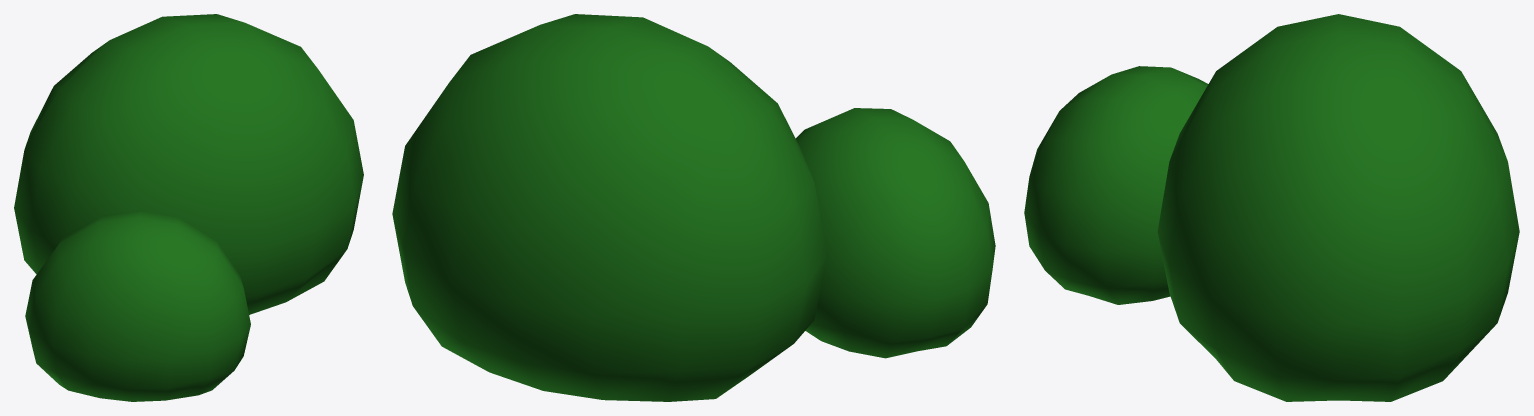
File: bush.fbx
3 views of the same model, side by side, from view 1: azimuth 30°, elevation 25°; view 2: azimuth 150°, elevation 25°; view 3: azimuth 270°, elevation 25° (orthographic). The views are drawn at different scales.
Visible parts, largest first — view 1: Roundcube, Roundcube.001; view 2: Roundcube, Roundcube.001; view 3: Roundcube, Roundcube.001.
Part boxes in pixels (<box>): Roundcube: <box>14,14,363,314</box>; Roundcube.001: <box>25,210,250,401</box>; Roundcube: <box>392,14,827,401</box>; Roundcube.001: <box>795,108,995,358</box>; Roundcube: <box>1157,14,1519,401</box>; Roundcube.001: <box>1024,66,1208,304</box>.
Size of the model in its own units: 158 by 105 by 148.
